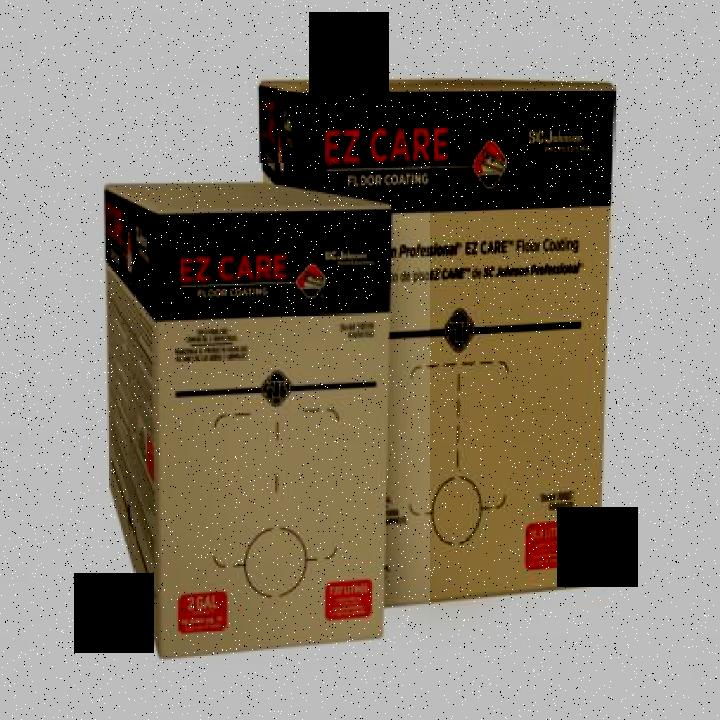box: (255, 69, 616, 606), (89, 163, 430, 695)
